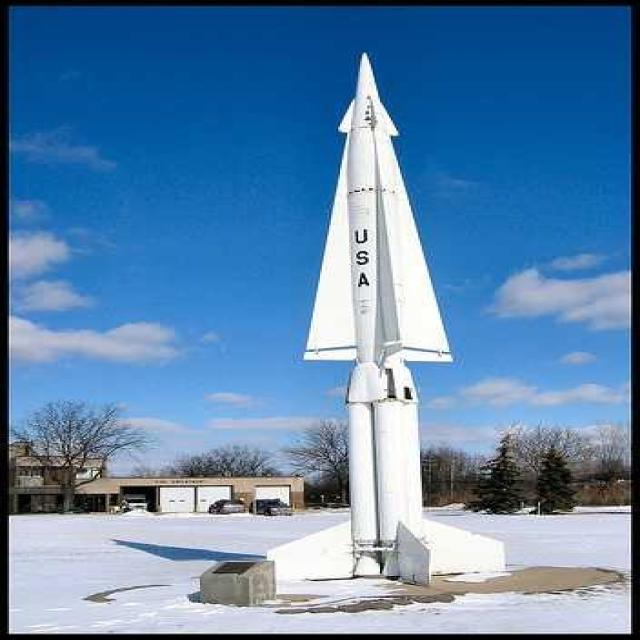missile: (300, 51, 456, 398)
